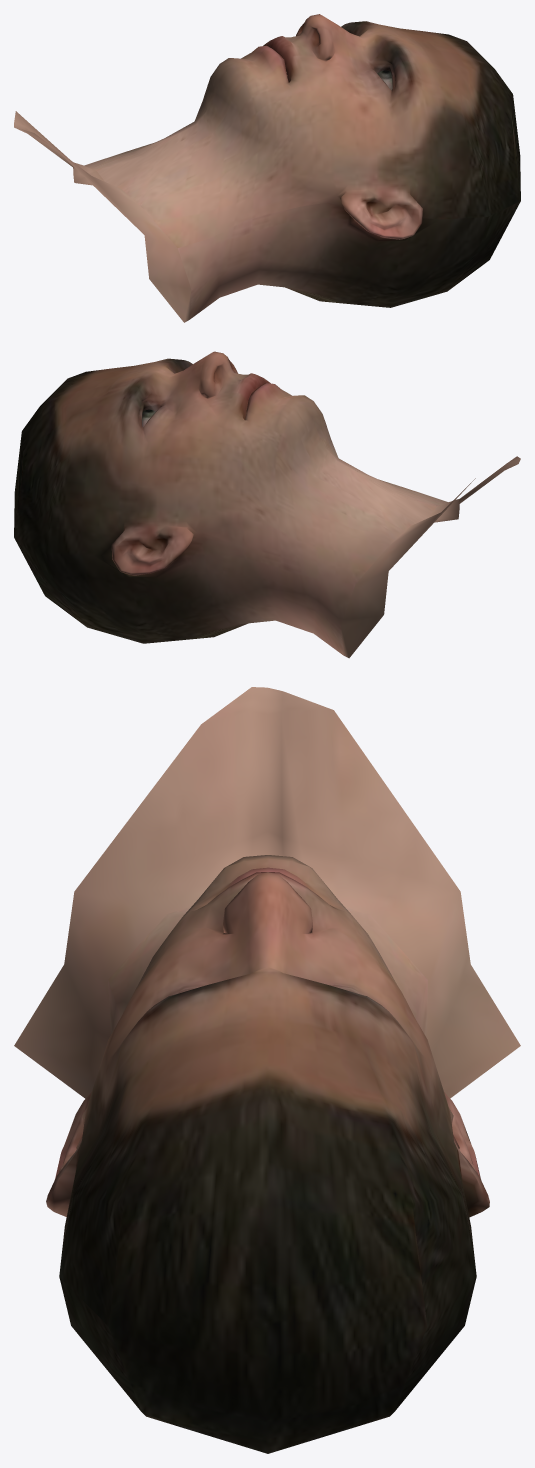
The model's file is head_british_boon.glb.
The picture shows the model from 3 angles, top to bottom: view 1: azimuth 30°, elevation 25°; view 2: azimuth 150°, elevation 25°; view 3: azimuth 270°, elevation 25°; orthographic projection. The views are drawn at different scales.
Size of the model in its own units: 17.12 by 9.97 by 9.03.
1 material, 1 textured.
